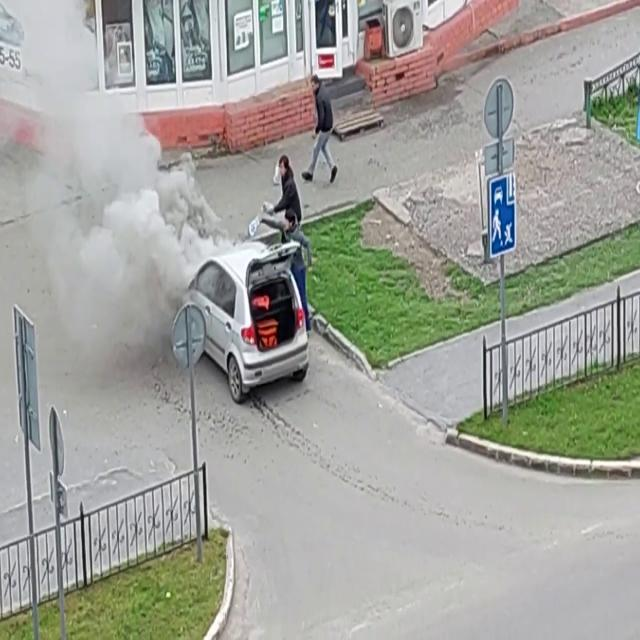Smoke: (0, 1, 204, 381)
